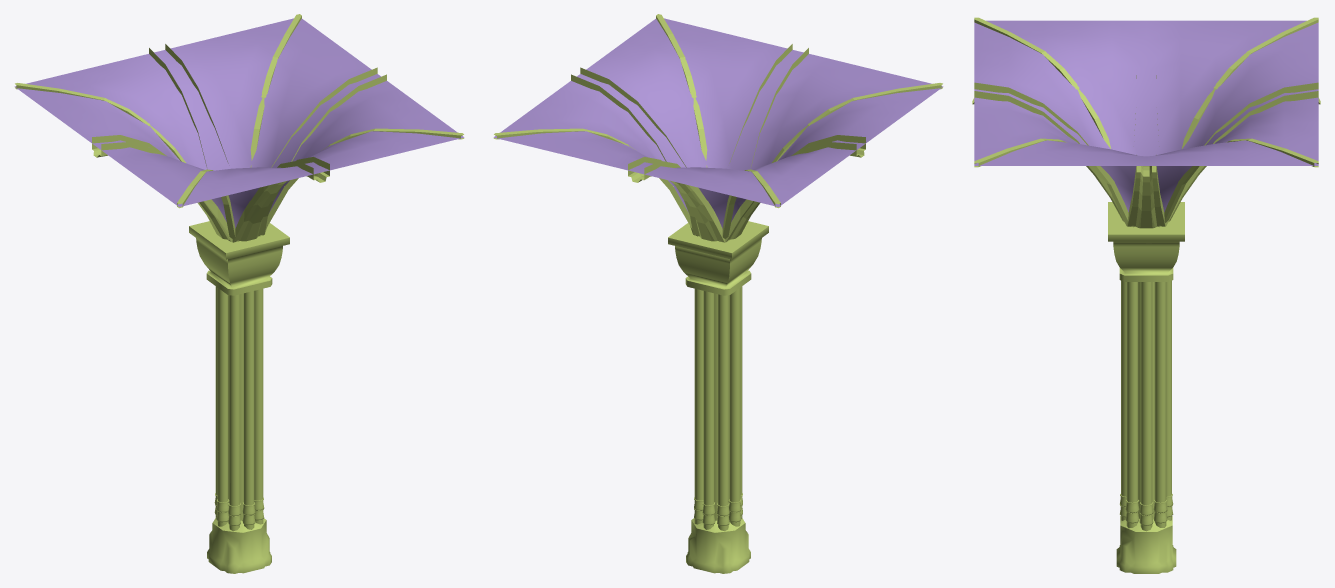
File: column.fbx
3 views of the same model, side by side, from view 1: azimuth 30°, elevation 25°; view 2: azimuth 150°, elevation 25°; view 3: azimuth 270°, elevation 25° (orthographic). The views are drawn at different scales.
Parts seen in each view (by area): view 1: Cylinder.024; view 2: Cylinder.024; view 3: Cylinder.024.
Boxes of the visible parts, x1,y1,x2,y2 form: Cylinder.024: (14,14,464,573); Cylinder.024: (493,14,943,573); Cylinder.024: (972,17,1320,573).
Size of the model in its own units: 10.12 by 15.21 by 10.12.
